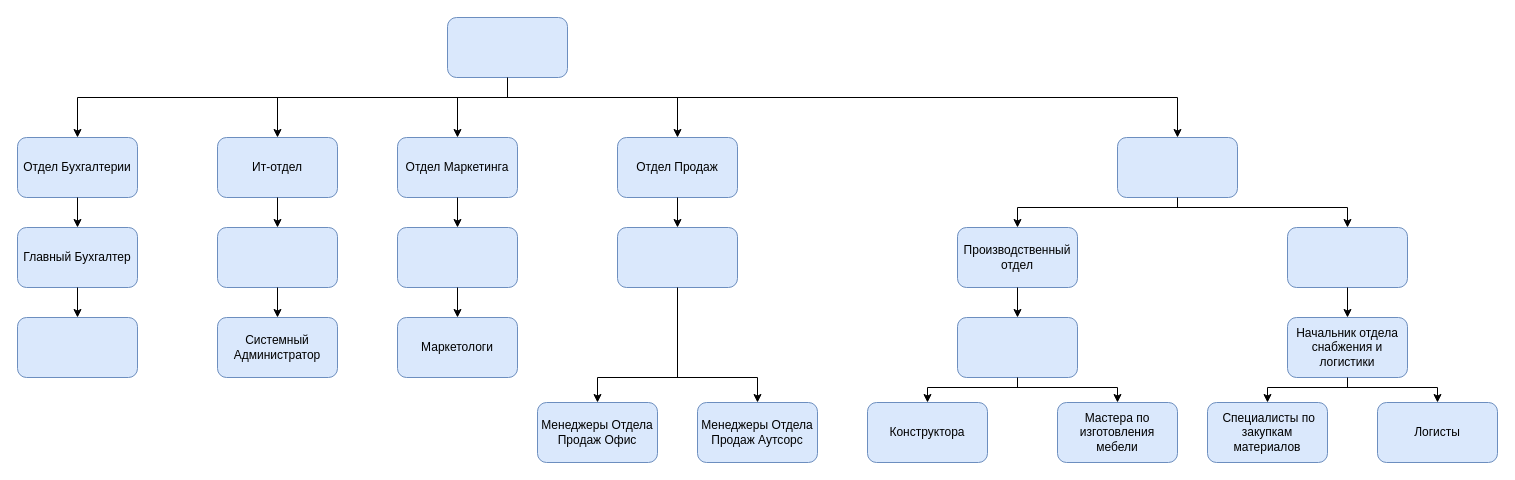
Image size: 1515x480. Some labels were removed from this diagram. The shapes that lost their labels are listed below. From the top down, each one's centre as x and y in pixels, then its label:
At [507,47]: "Генеральный директор".
At [1177,167]: "Производство".
At [277,257]: "Руководитель отдела информационных технологий".
At [457,257]: "Главный специалист по маркетингу".
At [677,257]: "Руководитель Отдела Продаж".
At [1347,257]: "Отдел снабжения и Логистики".
At [77,347]: "Бухгалтера".
At [1017,347]: "Директор производства".
